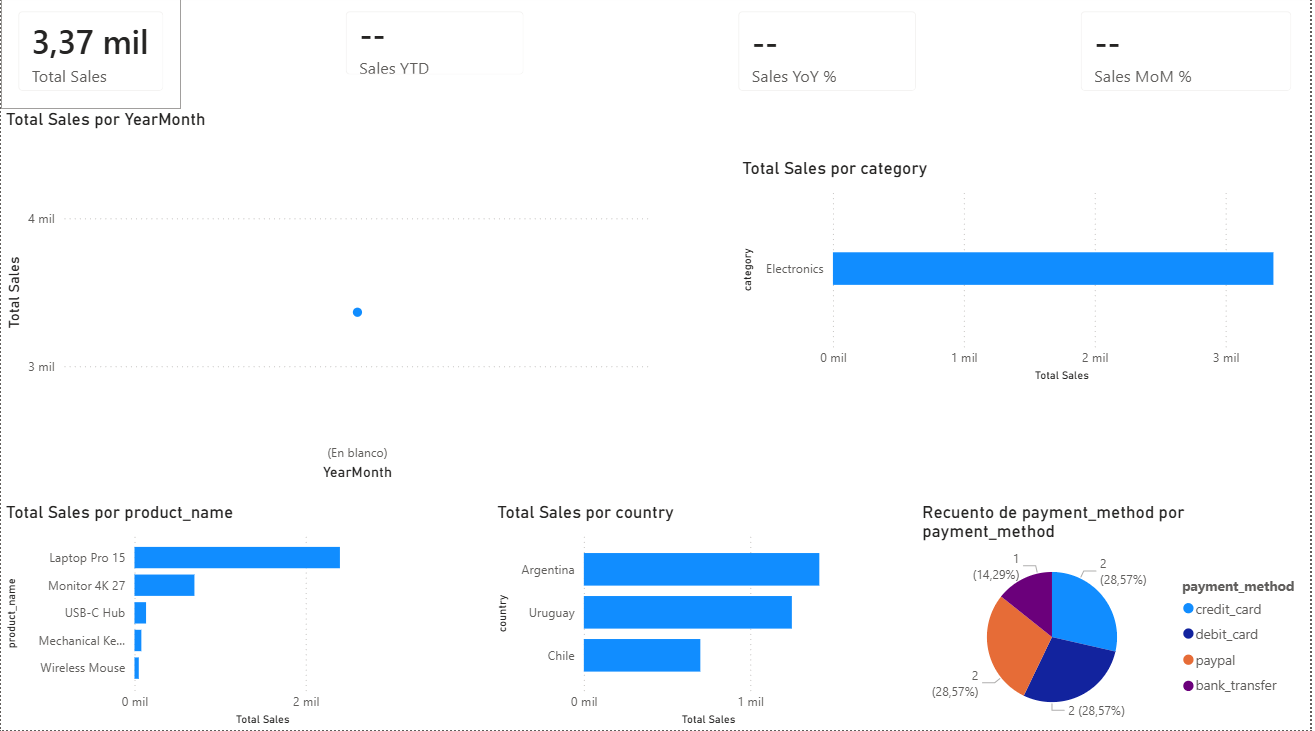

The dashboard page shown, as its layout file describes it:
{"tool":"powerbi","page":{"name":"Página 1","canvas":[1280,720],"ordinal":0},"visuals":[{"type":"cardVisual","fields":{"Data":["public fact_sales.Total Sales"]},"box":[0,0,176,112],"z":0},{"type":"cardVisual","fields":{"Data":["public fact_sales.Sales YTD"]},"box":[320,0,208,96],"z":1000},{"type":"cardVisual","fields":{"Data":["public fact_sales.Sales YoY %"]},"box":[704,0,208,112],"z":2000},{"type":"cardVisual","fields":{"Data":["public fact_sales.Sales MoM %"]},"box":[1040,0,240,112],"z":3000},{"type":"lineChart","fields":{"Category":["dim_date.YearMonth"],"Y":["public fact_sales.Total Sales"]},"box":[0,112,640,368],"z":4000},{"type":"barChart","fields":{"Category":["public products.category"],"Y":["public fact_sales.Total Sales"]},"box":[720,160,560,224],"z":5000},{"type":"clusteredBarChart","fields":{"Category":["public products.product_name"],"Y":["public fact_sales.Total Sales"]},"box":[0,496,400,224],"z":6000},{"type":"barChart","fields":{"Category":["public users.country"],"Y":["public fact_sales.Total Sales"]},"box":[480,496,352,224],"z":7000},{"type":"pieChart","fields":{"Category":["public fact_sales.payment_method"],"Y":["CountNonNull(public fact_sales.payment_method)"]},"box":[896,496,384,224],"z":7001}]}

Visuals, with their boxes in screenshot pixels (x1, y1, x2, y2), scaled from the page's 1280x720 canvas onto the 1315x731 screenshot:
cardVisual - public fact_sales.Total Sales: {"x1": 0, "y1": 0, "x2": 181, "y2": 114}
cardVisual - public fact_sales.Sales YTD: {"x1": 329, "y1": 0, "x2": 542, "y2": 97}
cardVisual - public fact_sales.Sales YoY %: {"x1": 723, "y1": 0, "x2": 937, "y2": 114}
cardVisual - public fact_sales.Sales MoM %: {"x1": 1068, "y1": 0, "x2": 1314, "y2": 114}
lineChart - dim_date.YearMonth x public fact_sales.Total Sales: {"x1": 0, "y1": 114, "x2": 658, "y2": 487}
barChart - public products.category x public fact_sales.Total Sales: {"x1": 740, "y1": 162, "x2": 1314, "y2": 390}
clusteredBarChart - public products.product_name x public fact_sales.Total Sales: {"x1": 0, "y1": 504, "x2": 411, "y2": 730}
barChart - public users.country x public fact_sales.Total Sales: {"x1": 493, "y1": 504, "x2": 855, "y2": 730}
pieChart - public fact_sales.payment_method x CountNonNull(public fact_sales.payment_method): {"x1": 920, "y1": 504, "x2": 1314, "y2": 730}
